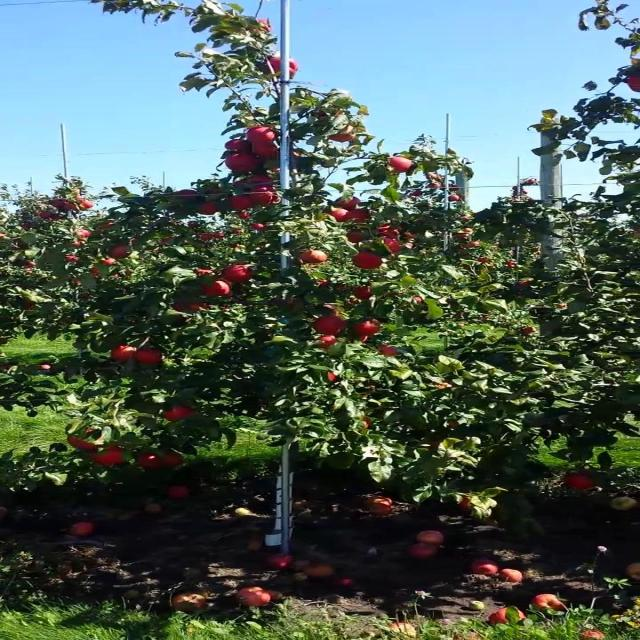apple: (319, 316, 348, 335), (92, 448, 124, 465), (355, 252, 384, 269), (227, 156, 256, 173), (269, 60, 299, 76), (205, 280, 233, 296), (248, 128, 277, 143), (568, 476, 597, 491), (248, 188, 277, 203), (227, 268, 254, 284), (355, 320, 382, 336), (163, 408, 194, 421), (134, 352, 164, 365), (333, 128, 356, 144), (255, 188, 277, 204), (383, 240, 404, 255), (248, 20, 272, 33), (234, 196, 256, 210), (255, 144, 279, 156), (113, 348, 135, 361), (177, 304, 212, 312), (390, 160, 412, 172), (305, 252, 327, 264), (348, 212, 370, 224), (198, 204, 220, 216), (227, 140, 249, 152), (141, 456, 162, 468), (262, 196, 283, 207), (319, 336, 338, 348), (163, 456, 185, 466), (113, 248, 130, 260), (355, 288, 372, 300), (348, 232, 363, 244), (319, 112, 341, 120), (340, 200, 361, 208), (333, 212, 348, 223), (383, 228, 400, 237), (255, 176, 274, 184), (461, 500, 473, 512), (383, 348, 398, 356), (632, 76, 639, 92), (177, 192, 199, 197), (323, 308, 338, 315), (440, 384, 455, 390), (362, 420, 372, 429), (319, 284, 327, 288)
